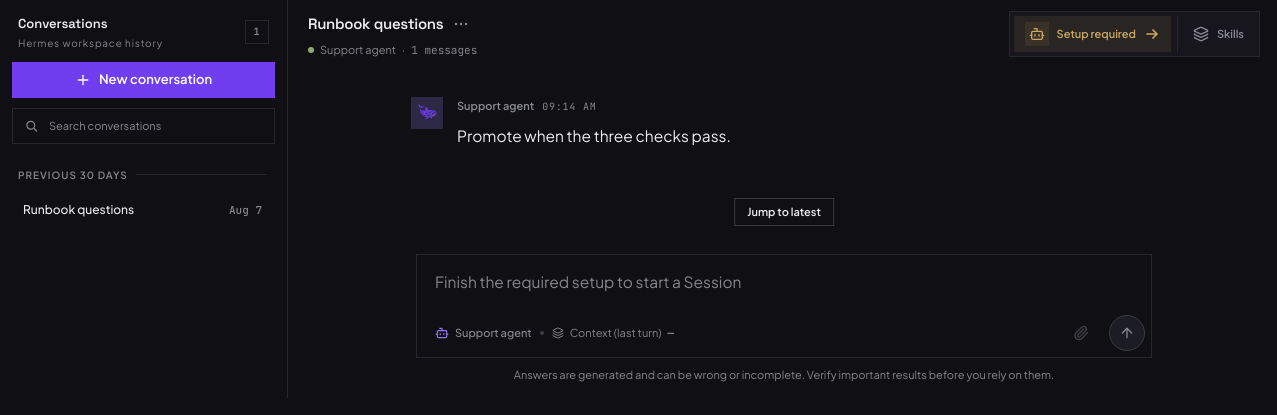
Test: chat thread layout › goes to the bottom when asked, and stops offering
(page scrolled)
Click the button "Jump to latest". click: click(784, 212)
box: [734, 198, 834, 226]
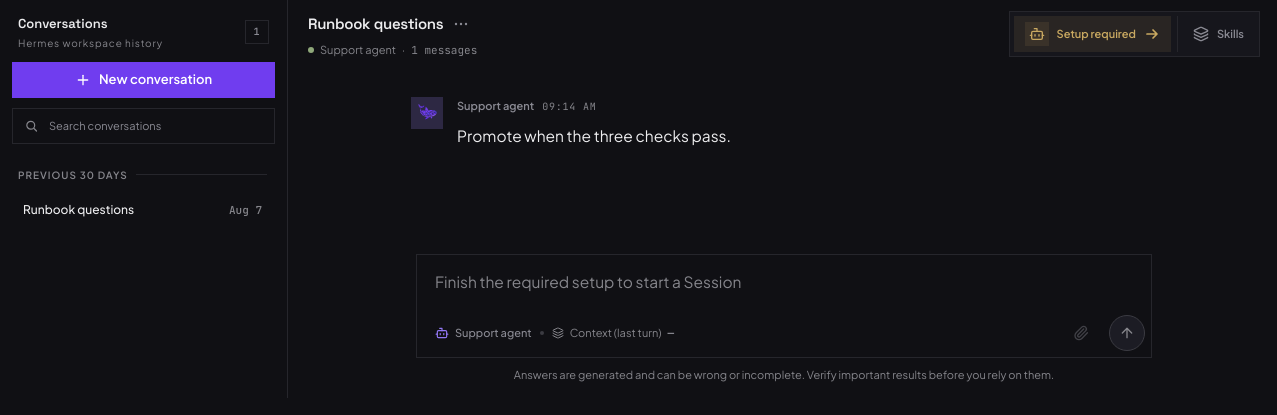
Now the button "Jump to latest" is gone
